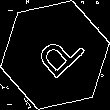P_SW: (24, 24, 86, 86)
